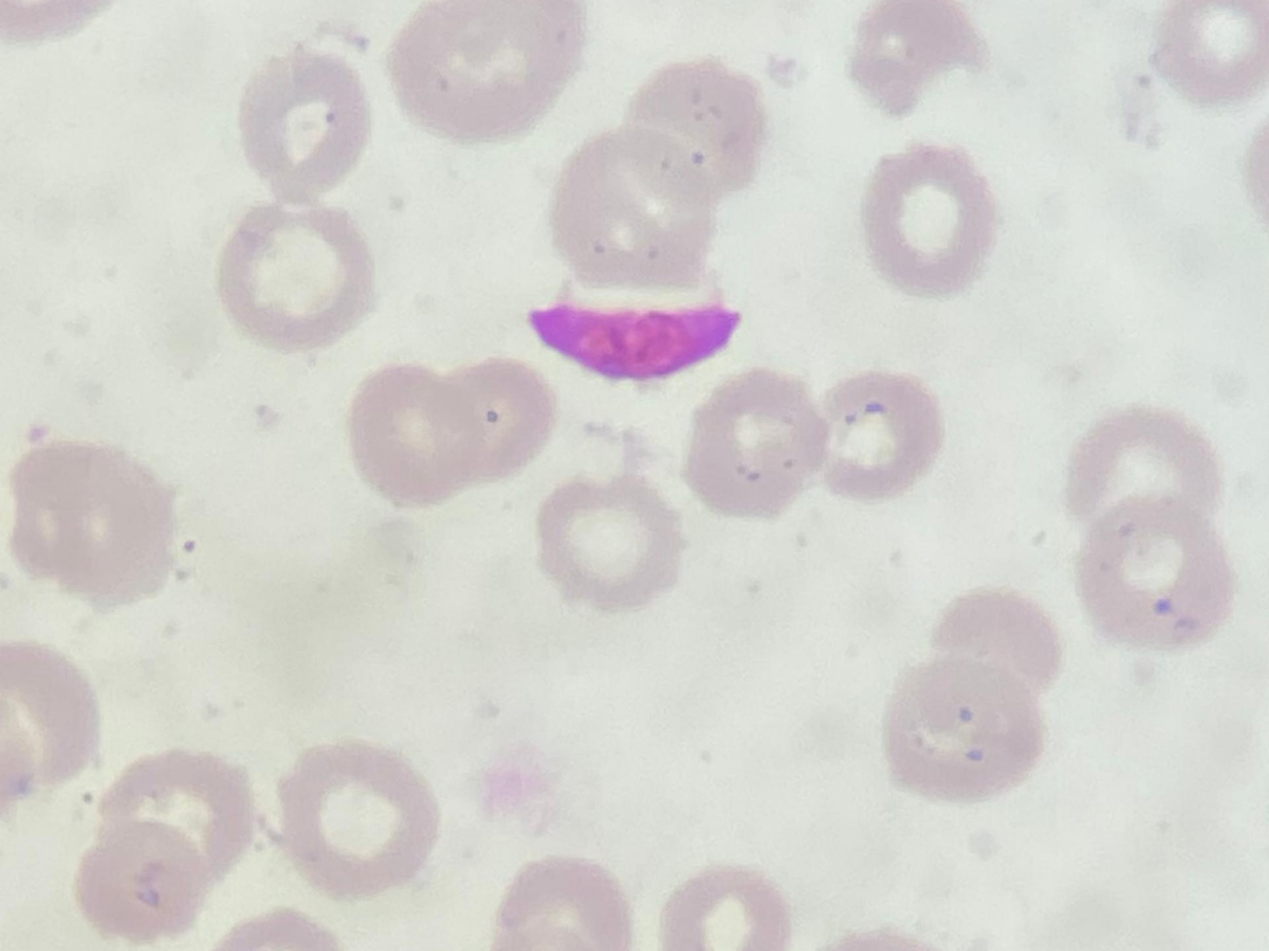Infected: (524, 293, 743, 382)
Uninfected: (383, 0, 587, 143), (13, 441, 178, 603), (549, 123, 712, 284), (281, 741, 442, 899), (216, 194, 373, 348), (1077, 491, 1229, 646), (879, 658, 1038, 798), (96, 754, 258, 891), (621, 58, 767, 209), (864, 139, 999, 298), (684, 369, 824, 520), (240, 48, 371, 206), (1072, 403, 1223, 539), (539, 473, 686, 612), (350, 364, 480, 508), (816, 368, 945, 498), (73, 821, 210, 943), (932, 587, 1063, 713), (446, 361, 560, 481), (494, 858, 634, 951), (654, 868, 794, 951)
